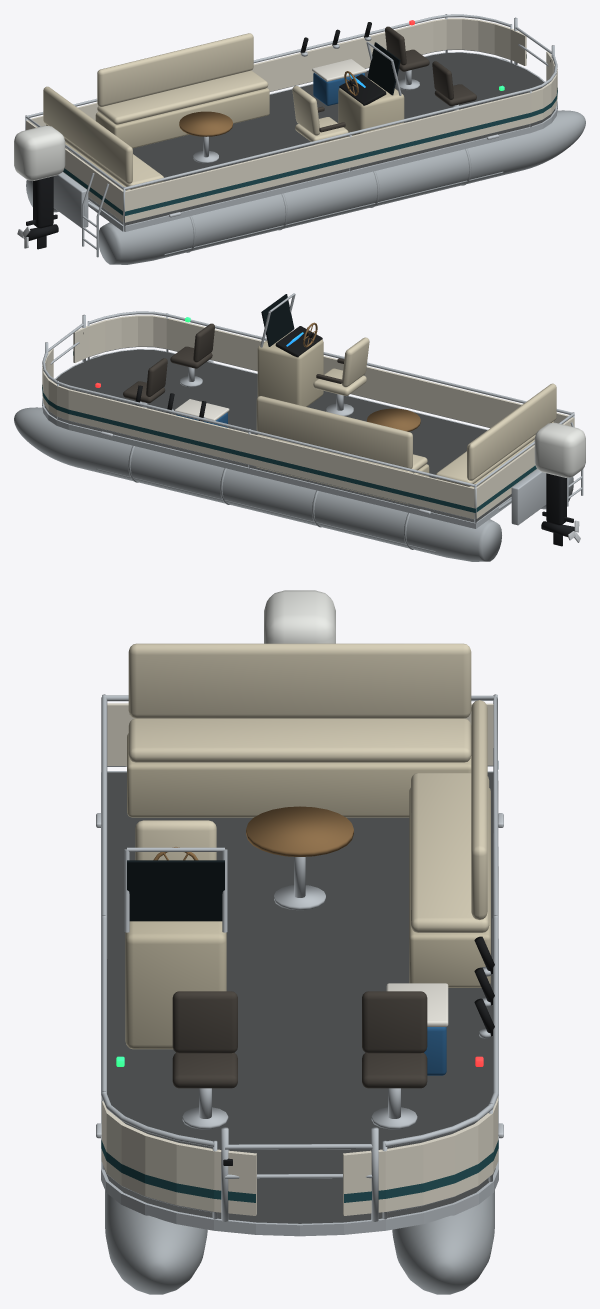
Rendered from pontoon.glb.
3 renders of one model, top to bottom at view 1: azimuth 30°, elevation 25°; view 2: azimuth 150°, elevation 25°; view 3: azimuth 270°, elevation 25°, orthographic. The views are drawn at different scales.
Parts seen in each view (by area): view 1: hull_fence, hull_tube.001, deck, port_back, port_bench_base, stern_back, port_bench_cush, deck_skirt, fence_stripe, outboard_cowl, console, fence_rail_top (+17 smaller); view 2: hull_fence, hull_tube, deck, port_back, deck_skirt, stern_back, console, fence_stripe, outboard_cowl, fence_rail_top.001, engine_plate, fence_rail_top (+15 smaller); view 3: deck, stern_back, hull_fence, stern_bench_base, stern_bench_cush, port_bench_cush, console, hull_tube, hull_tube.001, deck_skirt, ws_glass, port_bench_base (+14 smaller).
Part boxes in pixels (x1,y1,x2,y2): hull_fence: [26, 18, 557, 222]; hull_tube.001: [99, 110, 585, 264]; deck: [88, 52, 555, 225]; port_back: [97, 33, 253, 106]; port_bench_base: [95, 88, 269, 148]; stern_back: [43, 86, 132, 183]; port_bench_cush: [97, 70, 268, 124]; deck_skirt: [88, 52, 557, 231]; fence_stripe: [63, 54, 557, 215]; outboard_cowl: [14, 125, 65, 180]; console: [338, 80, 404, 136]; fence_rail_top: [125, 56, 557, 189]; hull_fence: [42, 315, 574, 519]; hull_tube: [14, 407, 501, 561]; deck: [44, 349, 511, 522]; port_back: [256, 396, 412, 468]; deck_skirt: [42, 349, 511, 528]; stern_back: [467, 383, 556, 480]; console: [257, 331, 323, 406]; fence_stripe: [42, 351, 536, 512]; outboard_cowl: [534, 422, 585, 477]; fence_rail_top.001: [42, 353, 574, 486]; engine_plate: [511, 469, 546, 525]; fence_rail_top: [89, 311, 572, 414]; deck: [105, 772, 495, 1223]; stern_back: [128, 643, 471, 718]; hull_fence: [101, 703, 498, 1215]; stern_bench_base: [127, 733, 471, 817]; stern_bench_cush: [128, 718, 471, 762]; port_bench_cush: [411, 773, 489, 932]; console: [125, 921, 226, 1049]; hull_tube: [392, 1190, 494, 1294]; hull_tube.001: [105, 1190, 207, 1294]; deck_skirt: [101, 771, 498, 1236]; ws_glass: [127, 860, 224, 921]; port_bench_base: [409, 788, 490, 987].
Size of the model in its own units: 7.49 by 1.99 by 2.5.
